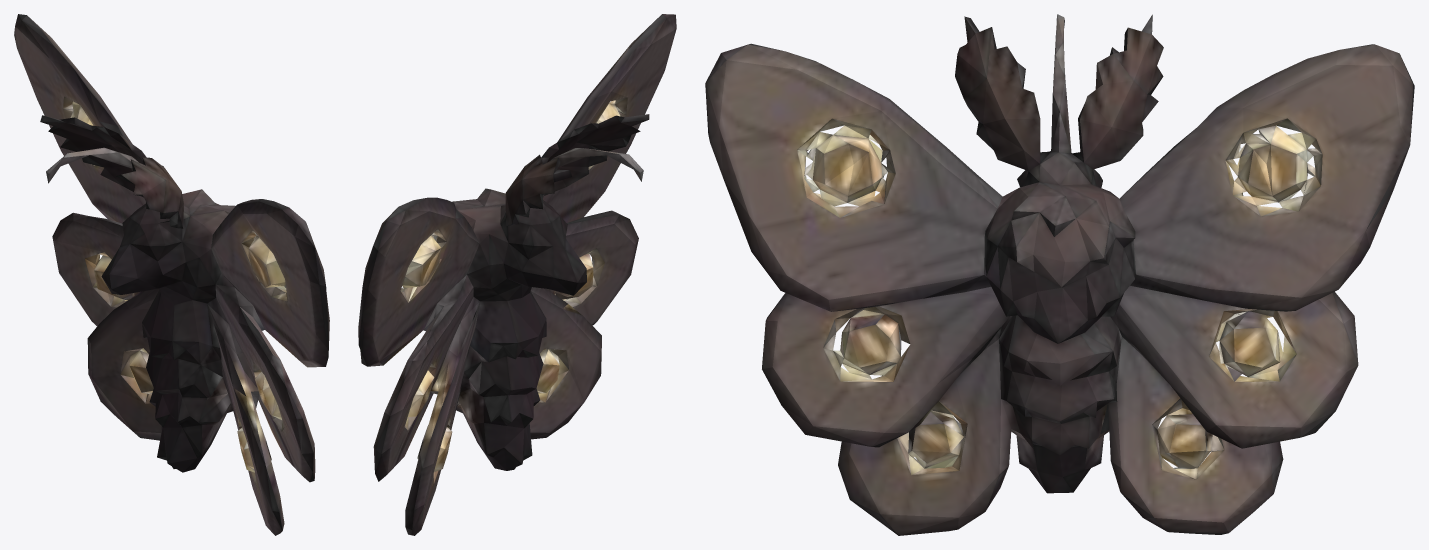
The model's file is foe_vesperMoth.glb.
3 renders of one model, left to right at view 1: azimuth 30°, elevation 25°; view 2: azimuth 150°, elevation 25°; view 3: azimuth 270°, elevation 25°, orthographic. The views are drawn at different scales.
Parts seen in each view (by area): view 1: tripo_node_31d3de69-a589-4801-8c98-c56b18161413.001; view 2: tripo_node_31d3de69-a589-4801-8c98-c56b18161413.001; view 3: tripo_node_31d3de69-a589-4801-8c98-c56b18161413.001.
Part boxes in pixels (x1,y1,x2,y2): tripo_node_31d3de69-a589-4801-8c98-c56b18161413.001: (14, 14, 329, 535); tripo_node_31d3de69-a589-4801-8c98-c56b18161413.001: (358, 14, 676, 535); tripo_node_31d3de69-a589-4801-8c98-c56b18161413.001: (705, 14, 1414, 535).
Bounding box in the file's own units: 0.4174 × 0.7156 × 0.9952.
Materials: 1 (1 with a texture image).
